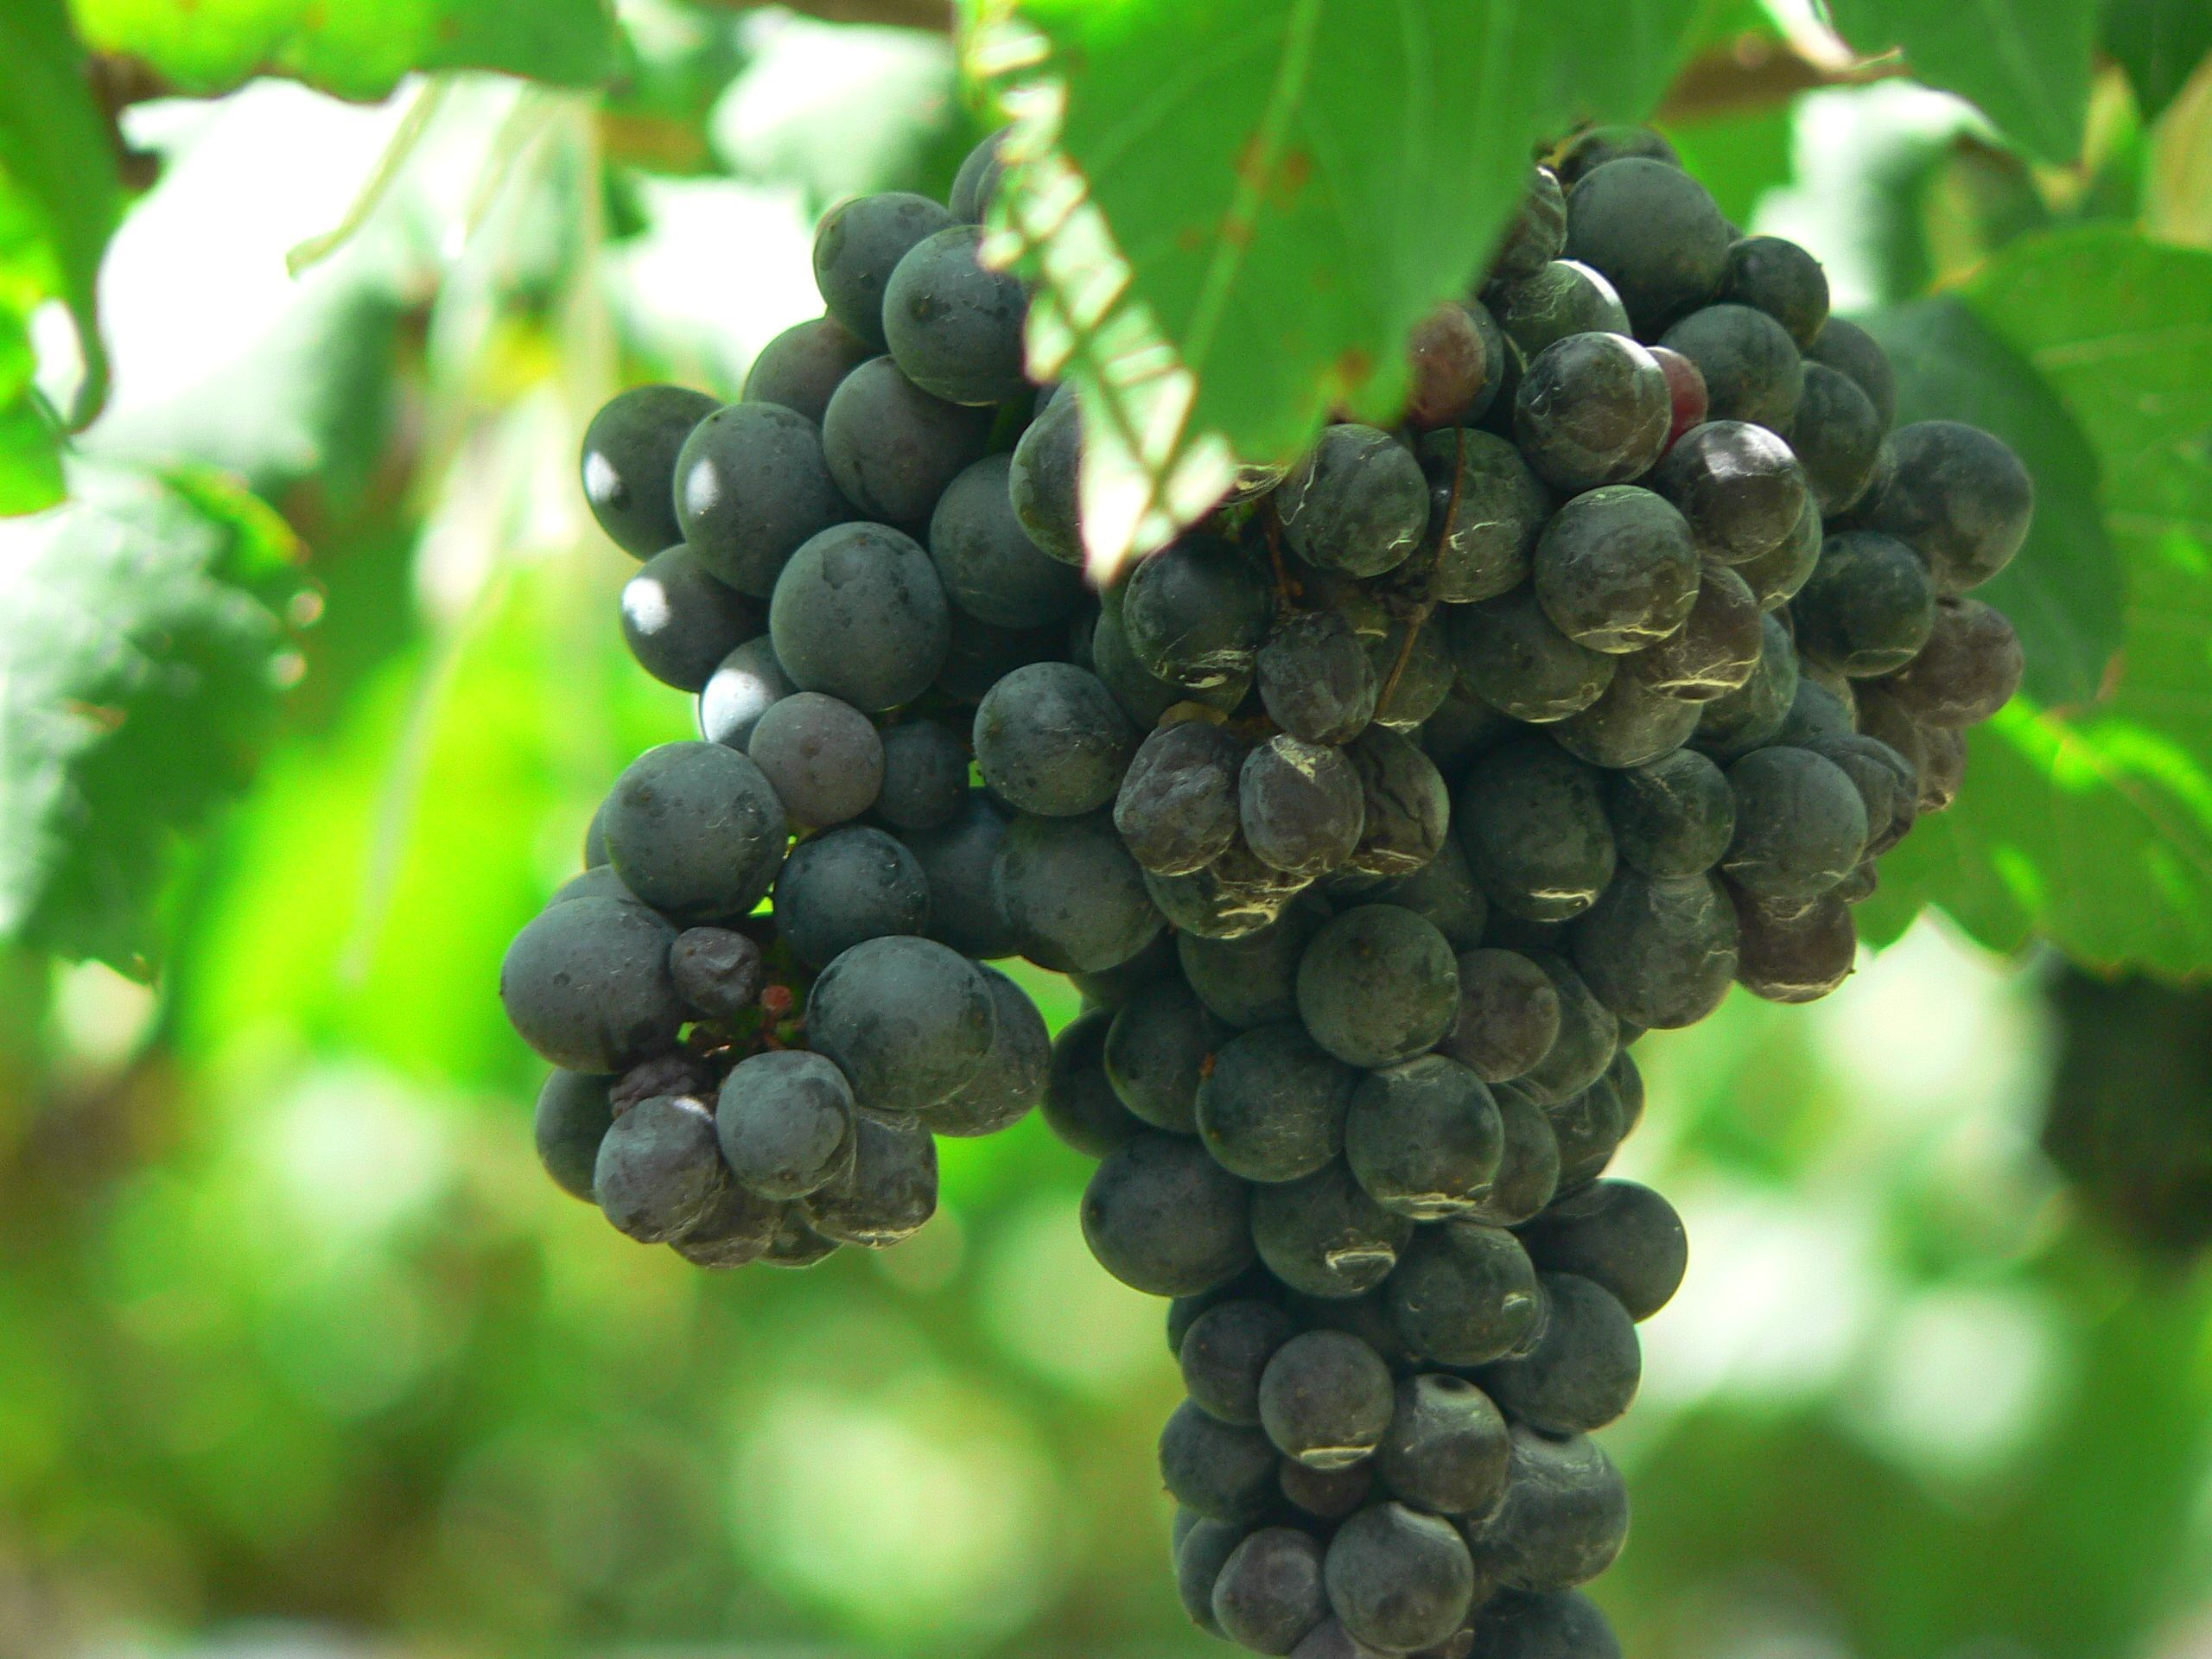Black grapes: (1061, 136, 1817, 1659), (531, 174, 1327, 1234)
